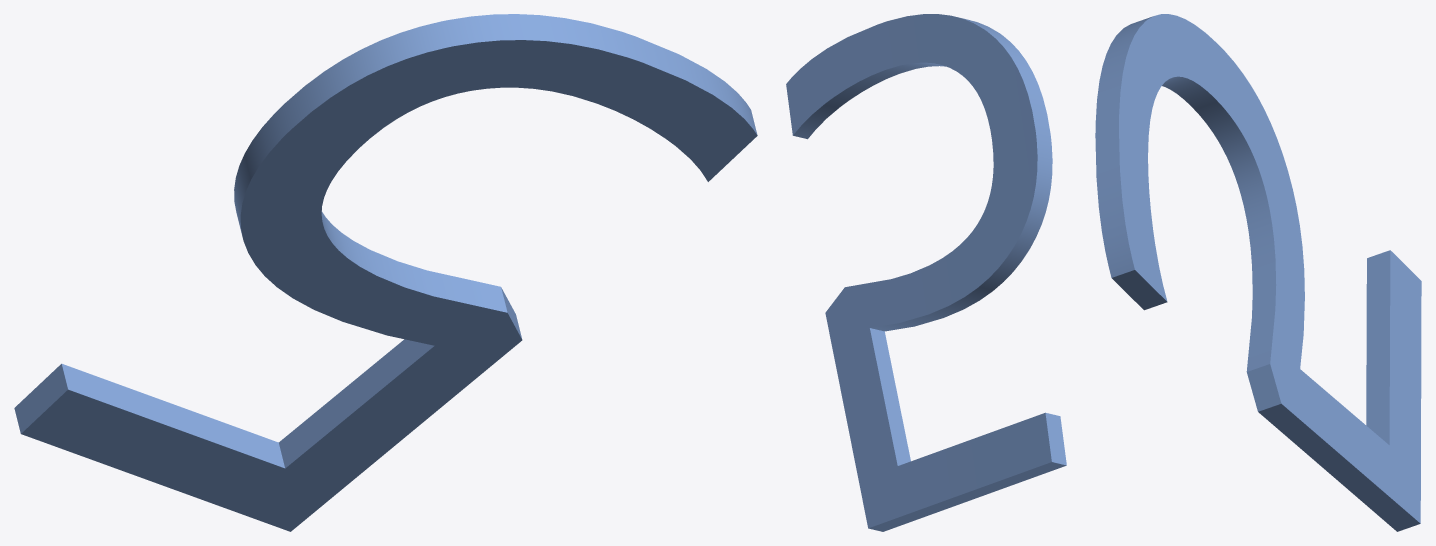
File: New_Number_5.gltf
The picture shows the model from 3 angles, left to right: view 1: azimuth 30°, elevation 25°; view 2: azimuth 150°, elevation 25°; view 3: azimuth 270°, elevation 25°; orthographic projection. The views are drawn at different scales.
Parts seen in each view (by area): view 1: Part 41; view 2: Part 41; view 3: Part 41.
Part boxes in pixels (x1=…): Part 41: x1=14, y1=14, x2=757, y2=531; Part 41: x1=786, y1=14, x2=1066, y2=531; Part 41: x1=1095, y1=14, x2=1421, y2=531.
Size of the model in its own units: 0.00501 by 0.00523 by 0.00301.
